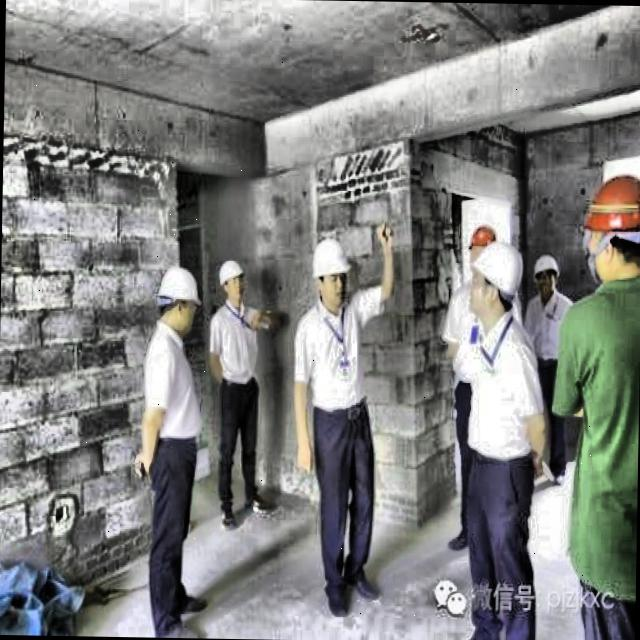helmet: (576, 168, 640, 301), (464, 240, 524, 327), (152, 259, 207, 338), (308, 231, 357, 310), (213, 255, 248, 307), (463, 224, 497, 274), (530, 253, 560, 300)
